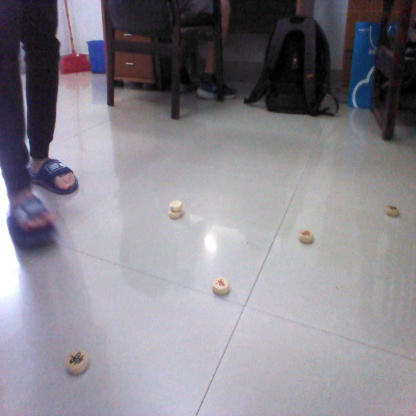chess: (211, 275, 236, 298), (64, 350, 90, 371), (380, 203, 403, 219), (167, 199, 186, 217), (298, 229, 315, 242)
